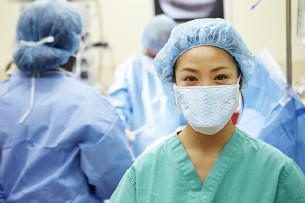Mask: (174, 66, 242, 134)
